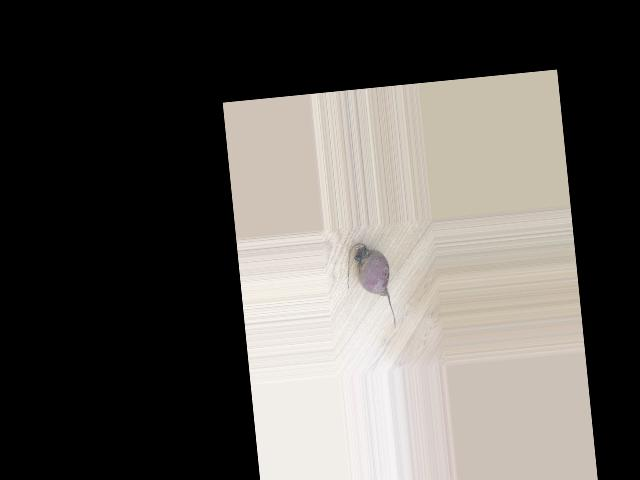beet: (343, 240, 396, 333)
